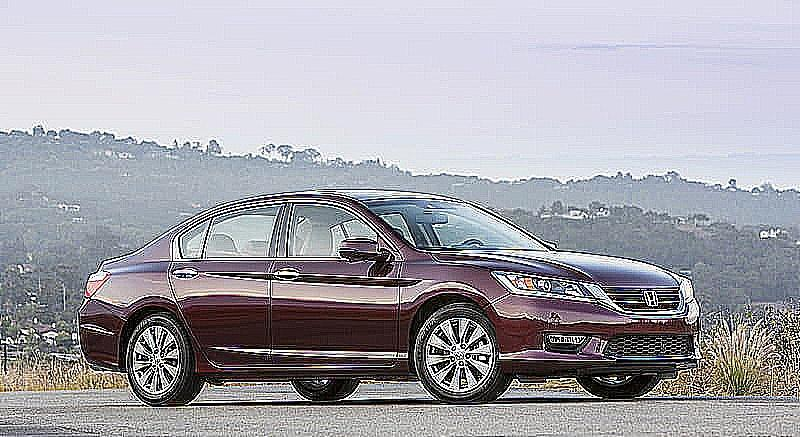Car hood: (421, 246, 692, 286)
Driver-s door - -F-R-: (264, 184, 411, 387)
Fender - -F-R-: (394, 244, 512, 373)
Fender - -R-R-: (89, 225, 204, 372)
Front bumper: (484, 287, 705, 379)
Headlight - -L-: (675, 277, 698, 314)
Headlight - -R-: (487, 268, 611, 306)
Passenger-s door - -R-R-: (162, 181, 289, 393)
Rear bumper: (73, 300, 130, 376)
Rear light - -R-: (85, 268, 111, 303)
Side bumper - -R-: (190, 345, 418, 392)
Side mirror - -R-: (337, 235, 394, 278)
